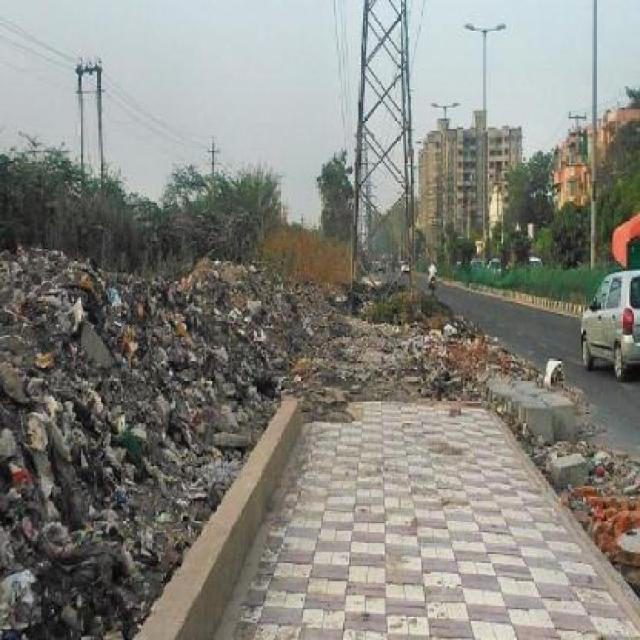garbage: (0, 245, 144, 636), (263, 263, 520, 403), (536, 357, 640, 574), (188, 252, 256, 476), (151, 270, 186, 566)
